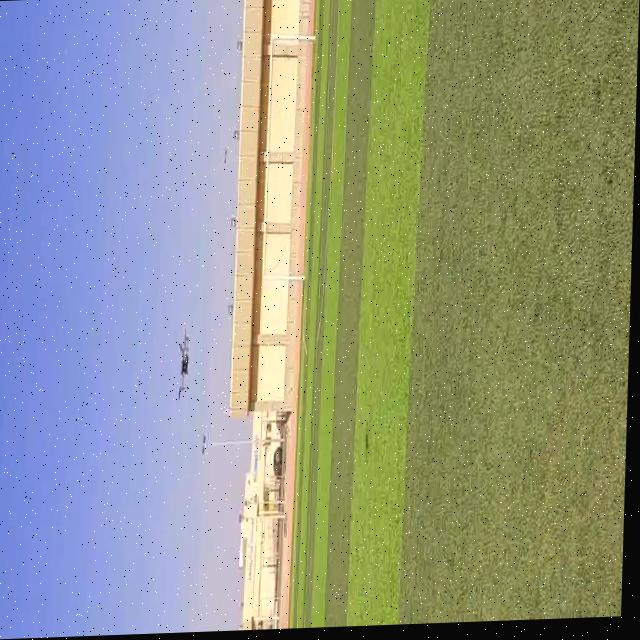drone: (171, 322, 197, 403)
